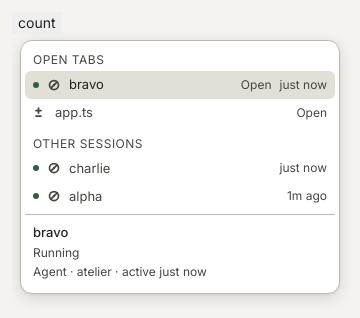
Test case: overview tool tabs › previews a diff row with its kind and path
The width and height of the screenshot is (360, 318).
Hover over the option "app.ts Open" at (74, 112), box [33,104,327,120]
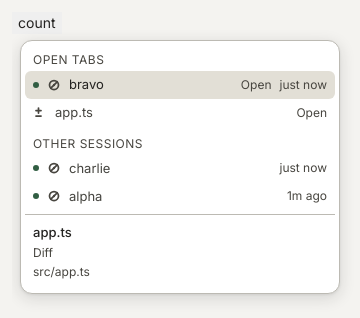
Result: the element with class "workspace-overview-preview" shows "Diff" at [33,245,53,260]
Result: the element with class "workspace-overview-preview" shows "src/app.ts" at [33,264,90,279]
